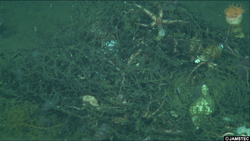fishing net: (1, 1, 250, 134)
